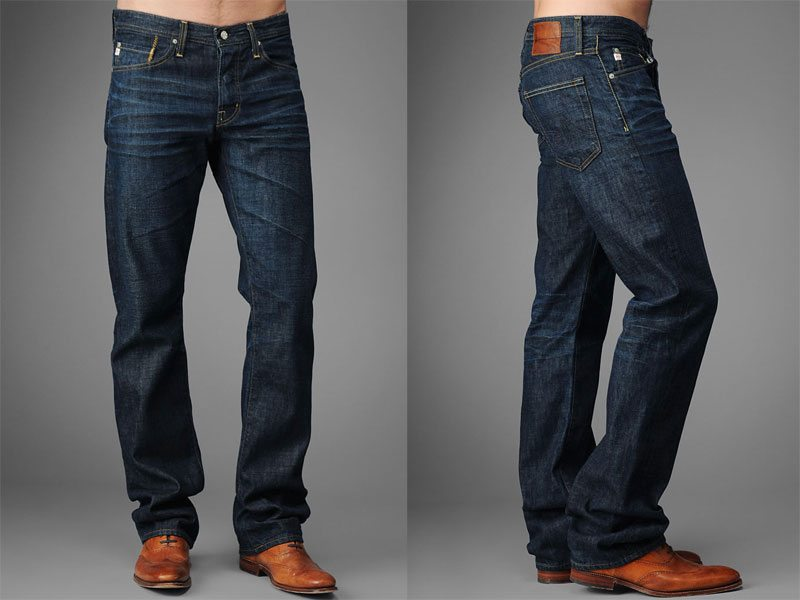Jeans: (97, 6, 332, 553), (504, 12, 724, 569)
